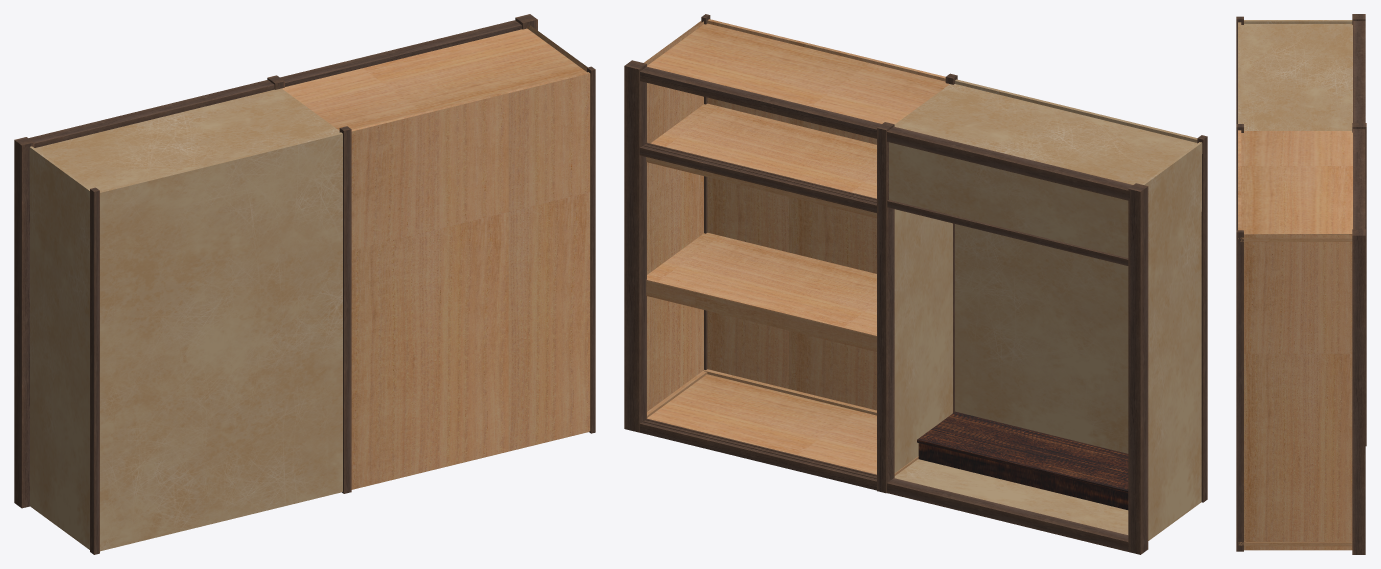
File: inwall_toko_6t_d.fbx
3 renders of one model, left to right at view 1: azimuth 30°, elevation 25°; view 2: azimuth 150°, elevation 25°; view 3: azimuth 270°, elevation 25°, orthographic. The views are drawn at different scales.
Parts seen in each view (by area): view 1: inwall_toko_6t_d; view 2: inwall_toko_6t_d; view 3: inwall_toko_6t_d.
Part boxes in pixels (x1,y1,x2,y2): inwall_toko_6t_d: [14, 14, 595, 554]; inwall_toko_6t_d: [624, 14, 1207, 554]; inwall_toko_6t_d: [1236, 14, 1366, 554].
Size of the model in its own units: 440 by 296 by 109.
